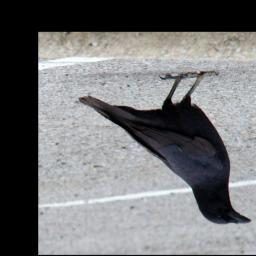Crow: (78, 71, 252, 225)
